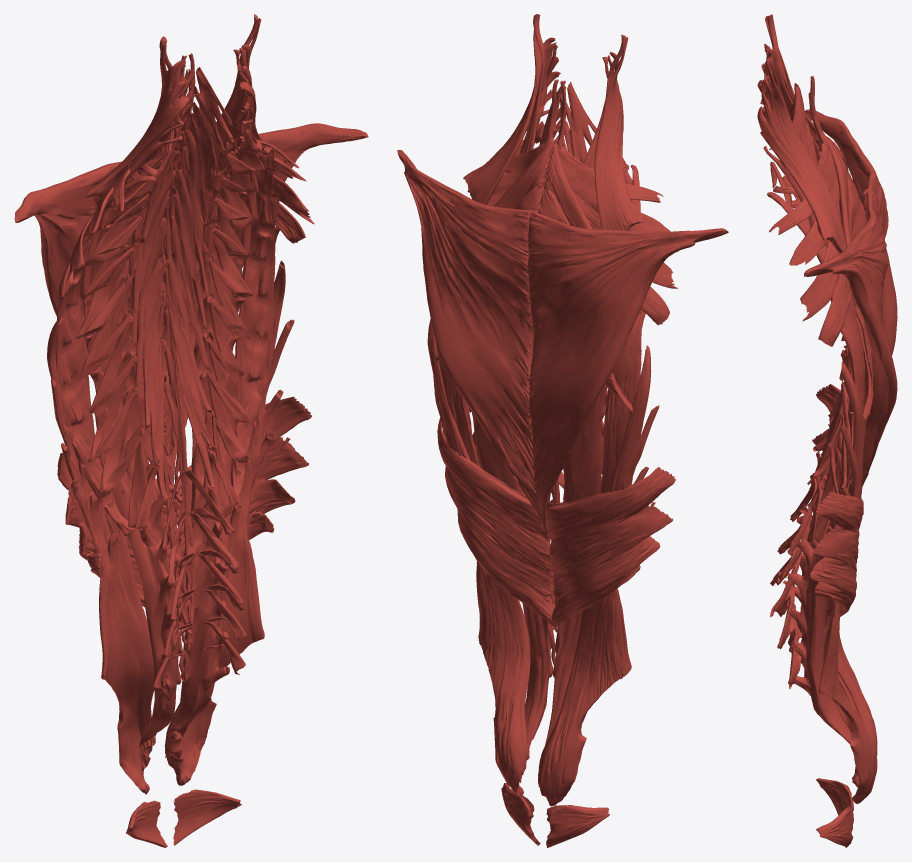
File: muscular.back.glb
The picture shows the model from 3 angles, left to right: view 1: azimuth 30°, elevation 25°; view 2: azimuth 150°, elevation 25°; view 3: azimuth 270°, elevation 25°; orthographic projection. The views are drawn at different scales.
Parts seen in each view (by area): view 1: right_iliocostalis_lumborum, left_longissimus_thoracis, right_longissimus_thoracis, left_iliocostalis_lumborum, left_semispinalis_thoracis, left_iliocostalis_thoracis, set_of_right_levatores_costarum_longi, right_semispinalis_thoracis, ascending_part_of_right_trapezius, right_iliocostalis_thoracis, set_of_left_levatores_costarum_longi, set_of_right_levatores_costarum_breves (+21 smaller); view 2: ascending_part_of_left_trapezius, ascending_part_of_right_trapezius, right_serratus_posterior_inferior, right_iliocostalis_lumborum, left_serratus_posterior_inferior, left_iliocostalis_lumborum, right_longissimus_thoracis, right_levator_scapulae, left_longissimus_thoracis, right_serratus_posterior_superior, right_iliocostalis_thoracis, left_levator_scapulae (+11 smaller); view 3: ascending_part_of_left_trapezius, left_iliocostalis_lumborum, left_longissimus_thoracis, left_levator_scapulae, left_serratus_posterior_superior, left_serratus_posterior_inferior, ascending_part_of_right_trapezius, left_lumbar_rotator, left_iliocostalis_thoracis, left_rhomboid_major, right_iliocostalis_lumborum, set_of_left_levatores_costarum_breves (+14 smaller).
Boxes of the visible parts, left/top/right/bottom form: right_iliocostalis_lumborum: left=47, top=314, right=155, bottom=794; left_longissimus_thoracis: left=167, top=136, right=262, bottom=757; right_longissimus_thoracis: left=83, top=157, right=182, bottom=747; left_iliocostalis_lumborum: left=164, top=260, right=294, bottom=785; left_semispinalis_thoracis: left=166, top=143, right=217, bottom=487; left_iliocostalis_thoracis: left=231, top=146, right=279, bottom=508; set_of_right_levatores_costarum_longi: left=76, top=148, right=169, bottom=527; right_semispinalis_thoracis: left=130, top=150, right=176, bottom=499; ascending_part_of_right_trapezius: left=14, top=161, right=177, bottom=518; right_iliocostalis_thoracis: left=55, top=175, right=156, bottom=535; set_of_left_levatores_costarum_longi: left=205, top=129, right=264, bottom=500; set_of_right_levatores_costarum_breves: left=82, top=149, right=171, bottom=529; ascending_part_of_left_trapezius: left=397, top=150, right=548, bottom=533; ascending_part_of_right_trapezius: left=527, top=209, right=728, bottom=532; right_serratus_posterior_inferior: left=546, top=467, right=675, bottom=626; right_iliocostalis_lumborum: left=538, top=345, right=659, bottom=806; left_serratus_posterior_inferior: left=437, top=418, right=553, bottom=625; left_iliocostalis_lumborum: left=427, top=319, right=530, bottom=798; right_longissimus_thoracis: left=545, top=162, right=629, bottom=745; right_levator_scapulae: left=594, top=37, right=643, bottom=230; left_longissimus_thoracis: left=472, top=140, right=554, bottom=762; right_serratus_posterior_superior: left=544, top=143, right=678, bottom=325; right_iliocostalis_thoracis: left=600, top=164, right=645, bottom=493; left_levator_scapulae: left=463, top=30, right=560, bottom=205; ascending_part_of_left_trapezius: left=804, top=189, right=897, bottom=486; left_iliocostalis_lumborum: left=819, top=362, right=877, bottom=803; left_longissimus_thoracis: left=773, top=175, right=864, bottom=744; left_levator_scapulae: left=757, top=61, right=846, bottom=253; left_serratus_posterior_superior: left=769, top=139, right=850, bottom=346; left_serratus_posterior_inferior: left=810, top=491, right=863, bottom=627; ascending_part_of_right_trapezius: left=805, top=109, right=897, bottom=355; left_lumbar_rotator: left=770, top=477, right=820, bottom=688; left_iliocostalis_thoracis: left=766, top=192, right=866, bottom=546; left_rhomboid_major: left=847, top=177, right=873, bottom=420; right_iliocostalis_lumborum: left=825, top=384, right=877, bottom=787; set_of_left_levatores_costarum_breves: left=770, top=163, right=852, bottom=543.
Bounding box in the file's own units: 0.2972 × 0.6833 × 0.107.
